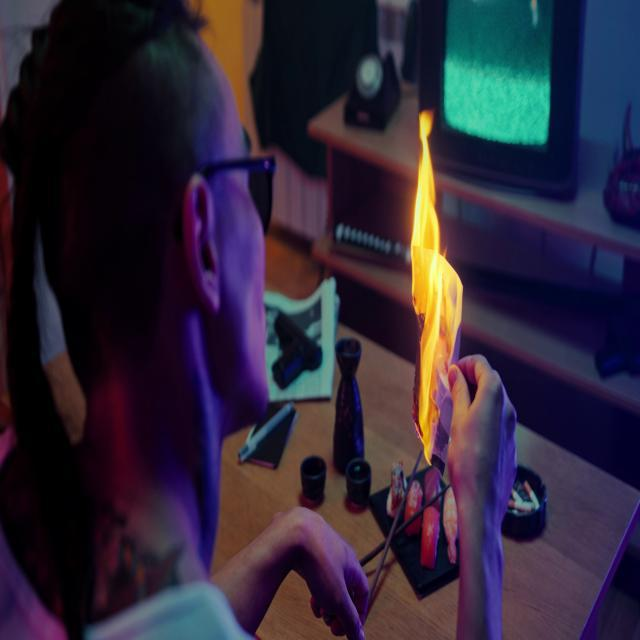Fire: (408, 106, 453, 467)
